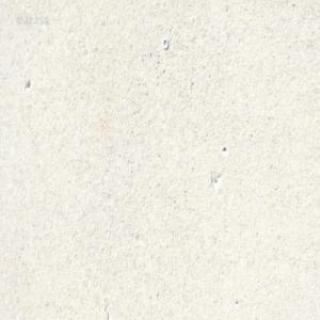Washertrack_idkeyframe: (161, 37, 168, 49)
